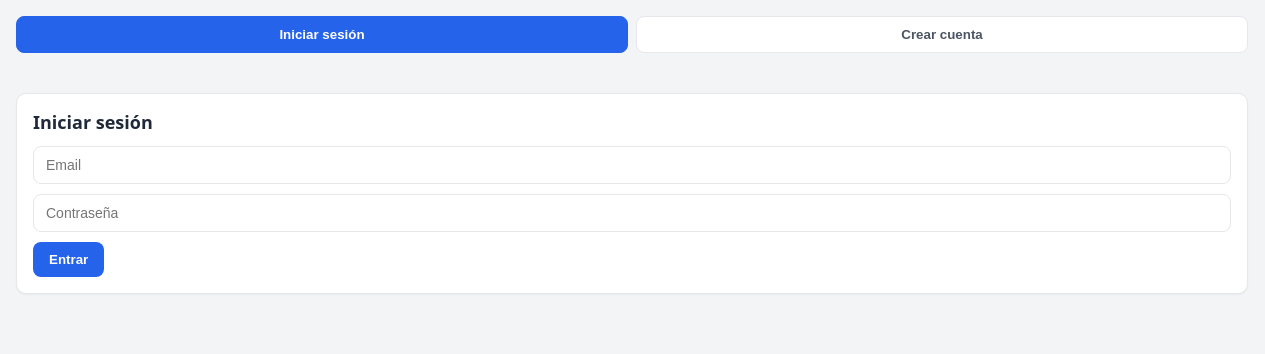
Test: Auth › con credenciales incorrectas muestra el error y no inicia sesion
Type "malo@test.com" into the field with placeholder "Email".
click(632, 165); type("malo@test.com")  # box [33,146,1231,184]
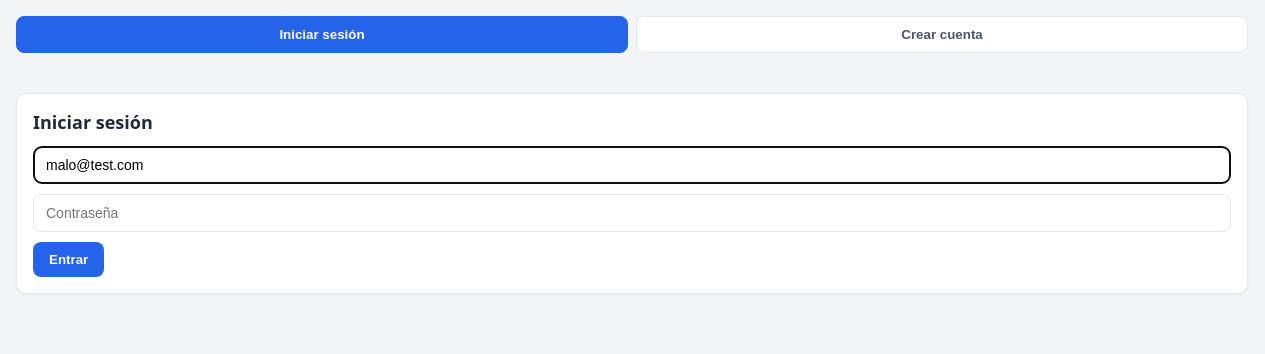
Type "malo" into the password field with placeholder "Contraseña".
click(632, 213); type("malo")  # box [33,194,1231,232]
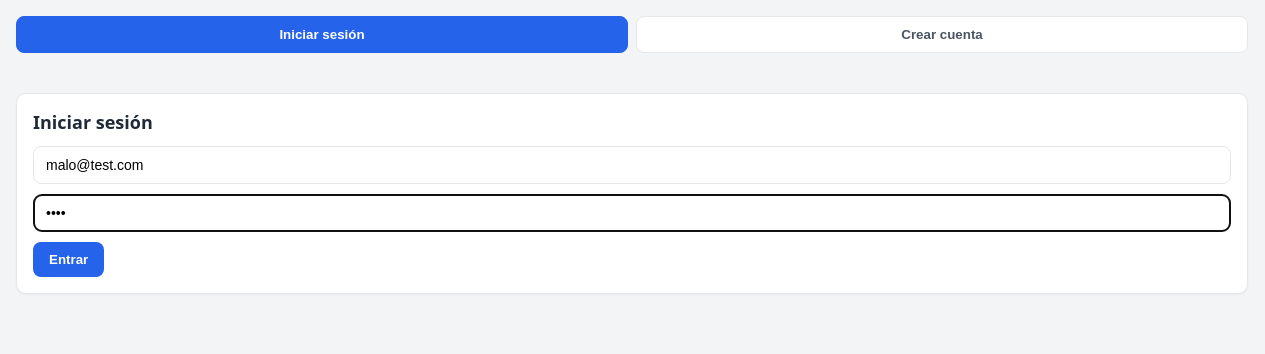
Click the button "Entrar".
click(69, 260)  # box [33,242,104,277]
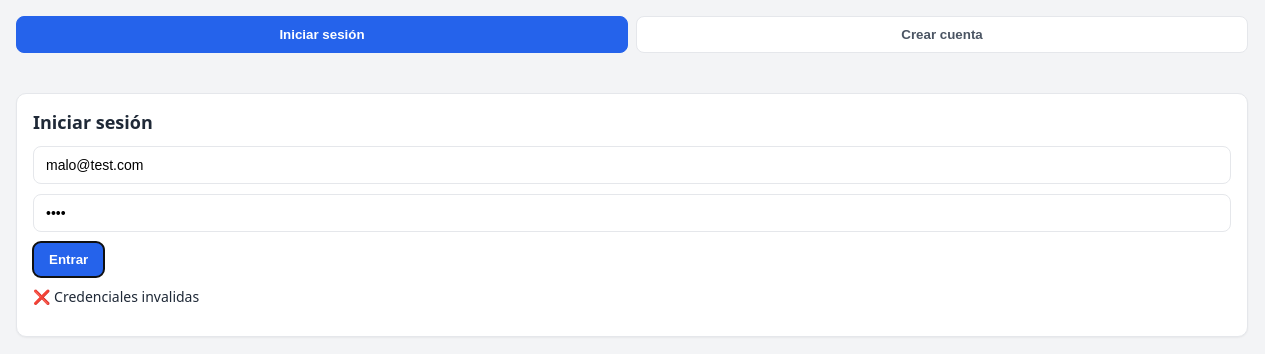
Now the text "❌ Credenciales invalidas" is shown, box [33,287,199,306]
